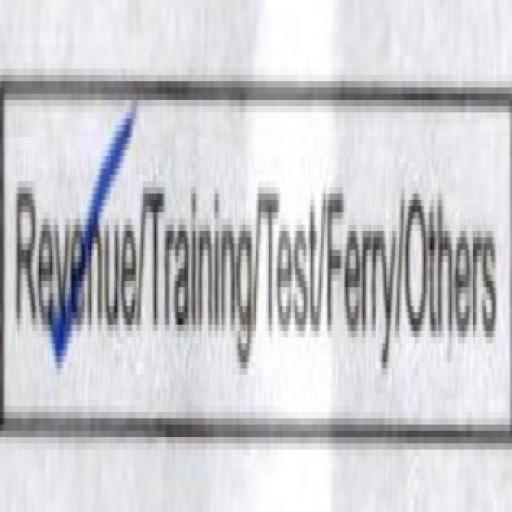check: (0, 25, 146, 493)
